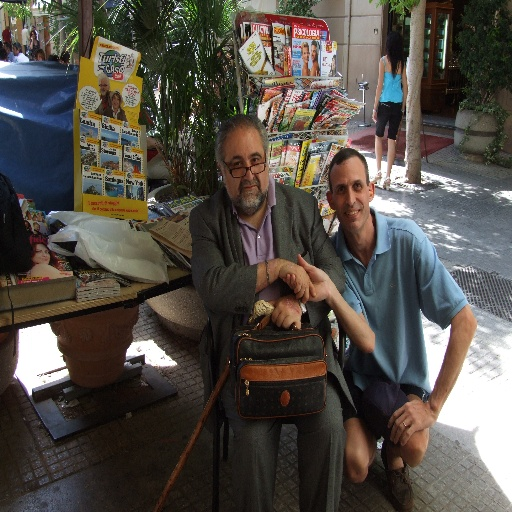hand: (393, 396, 441, 458), (281, 252, 331, 303), (277, 259, 317, 303), (265, 295, 304, 331), (372, 108, 377, 124)
